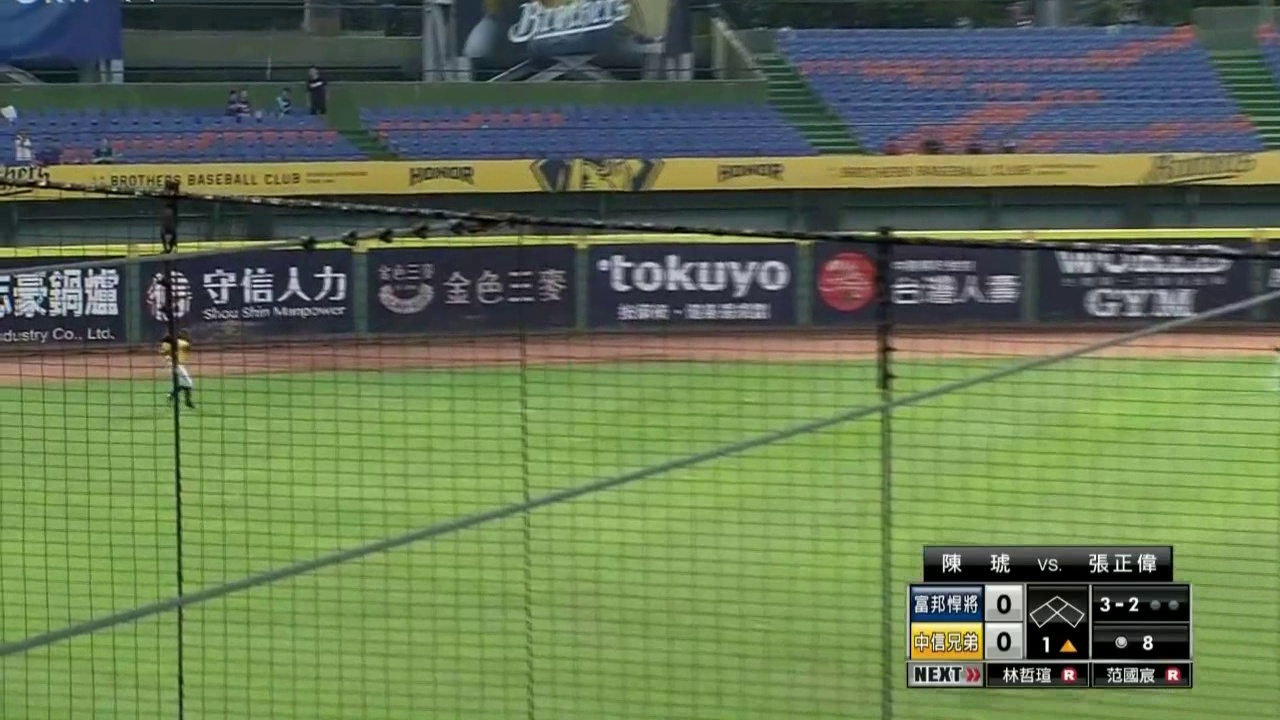base: (1027, 592, 1087, 629)
out: (1143, 592, 1181, 614)
score1: (986, 591, 1018, 622)
score2: (985, 628, 1022, 655)
session: (1032, 633, 1088, 658)
strikeball: (1095, 590, 1148, 620)
total: (1108, 631, 1163, 658)
